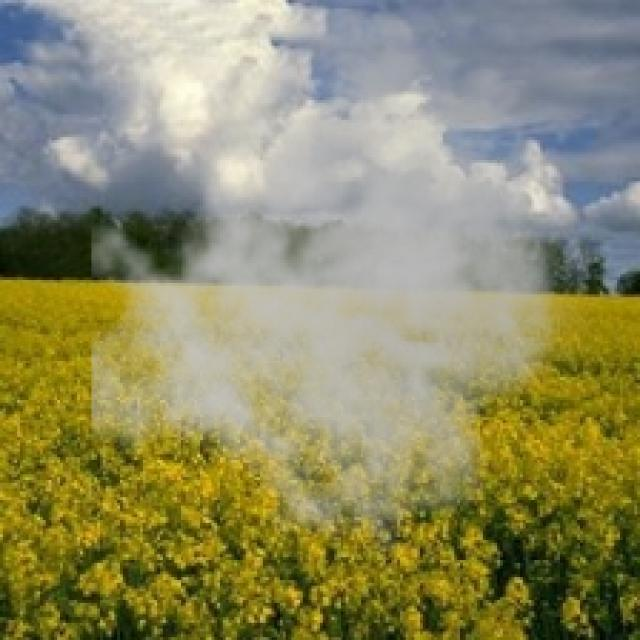smoke: (91, 6, 606, 557)
